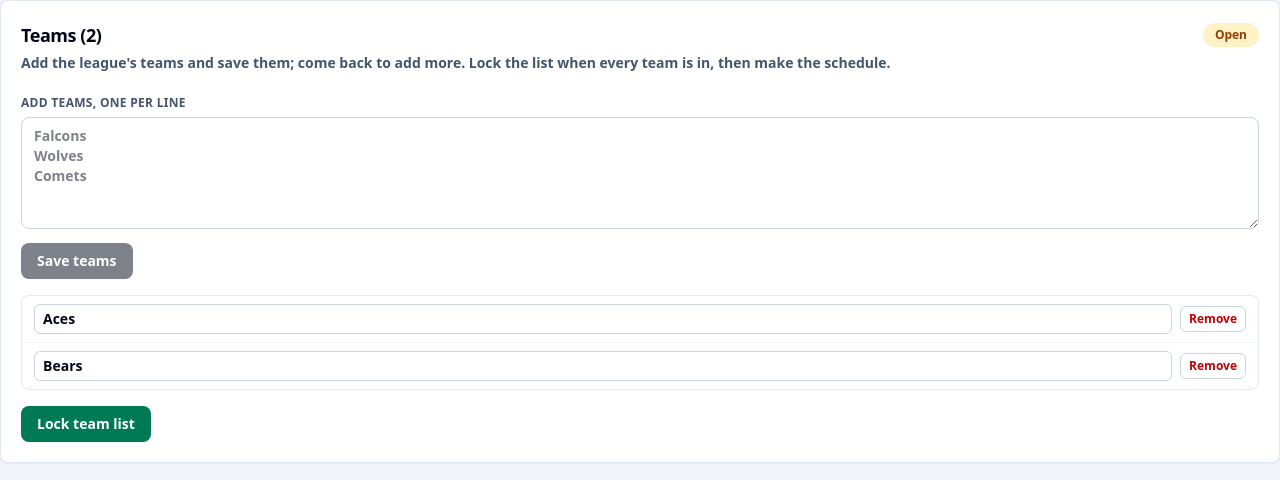
renaming a team on the open list › shows the saved name again when the season refuses the new one
Replace the text in the field named "Name of Bears" with "Aces": (603, 366) [34,351,1172,381]
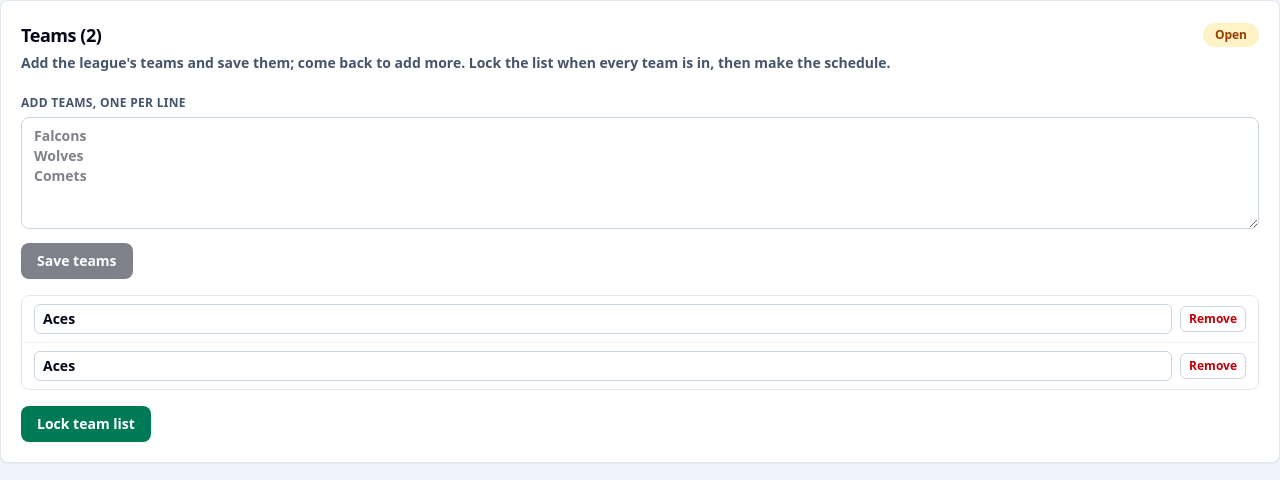
Leave the field named "Name of Bears", box [34,351,1172,381]
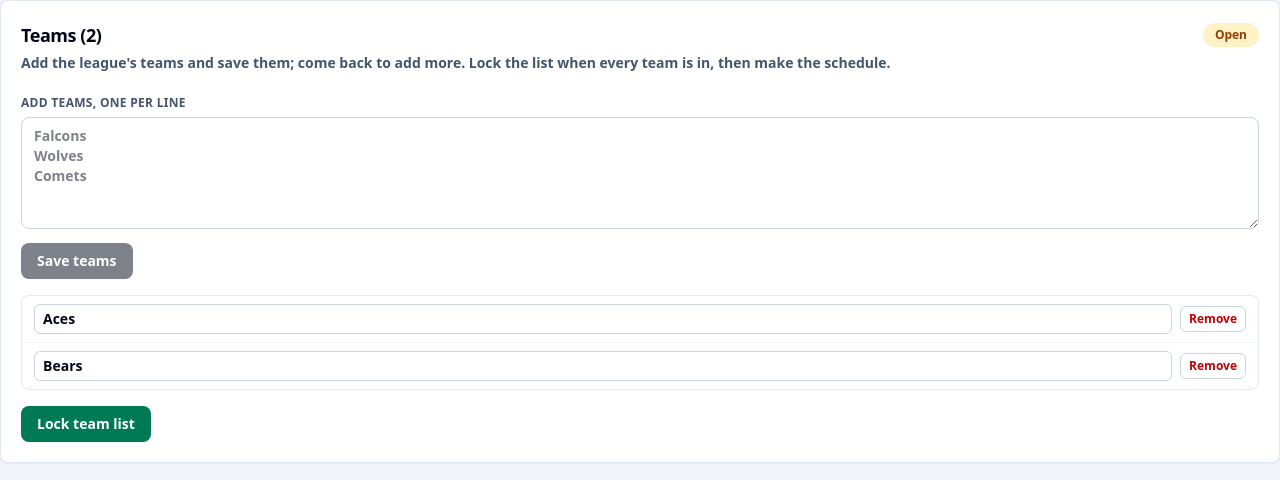
Expected: the field named "Name of Bears" holds "Bears", [34,351,1172,381]
